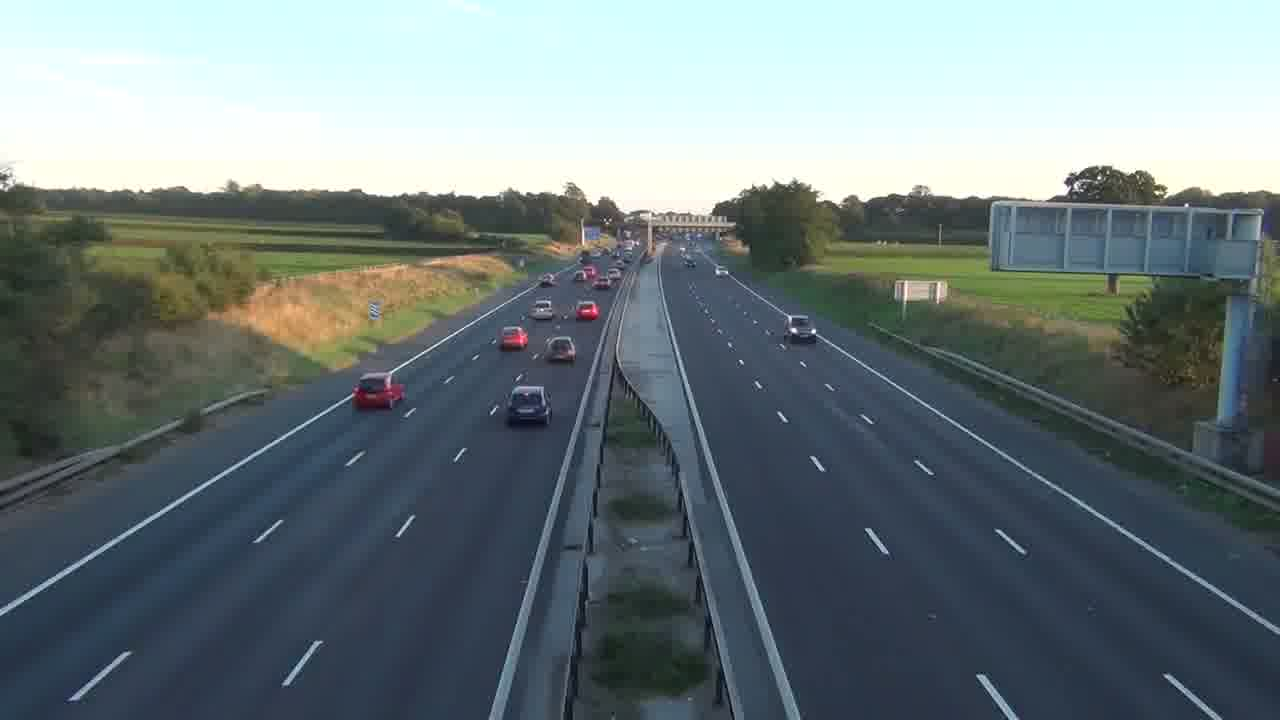car: (352, 372, 405, 411), (508, 383, 551, 424), (783, 315, 818, 346), (544, 335, 577, 364), (496, 325, 529, 351), (574, 300, 600, 321)
